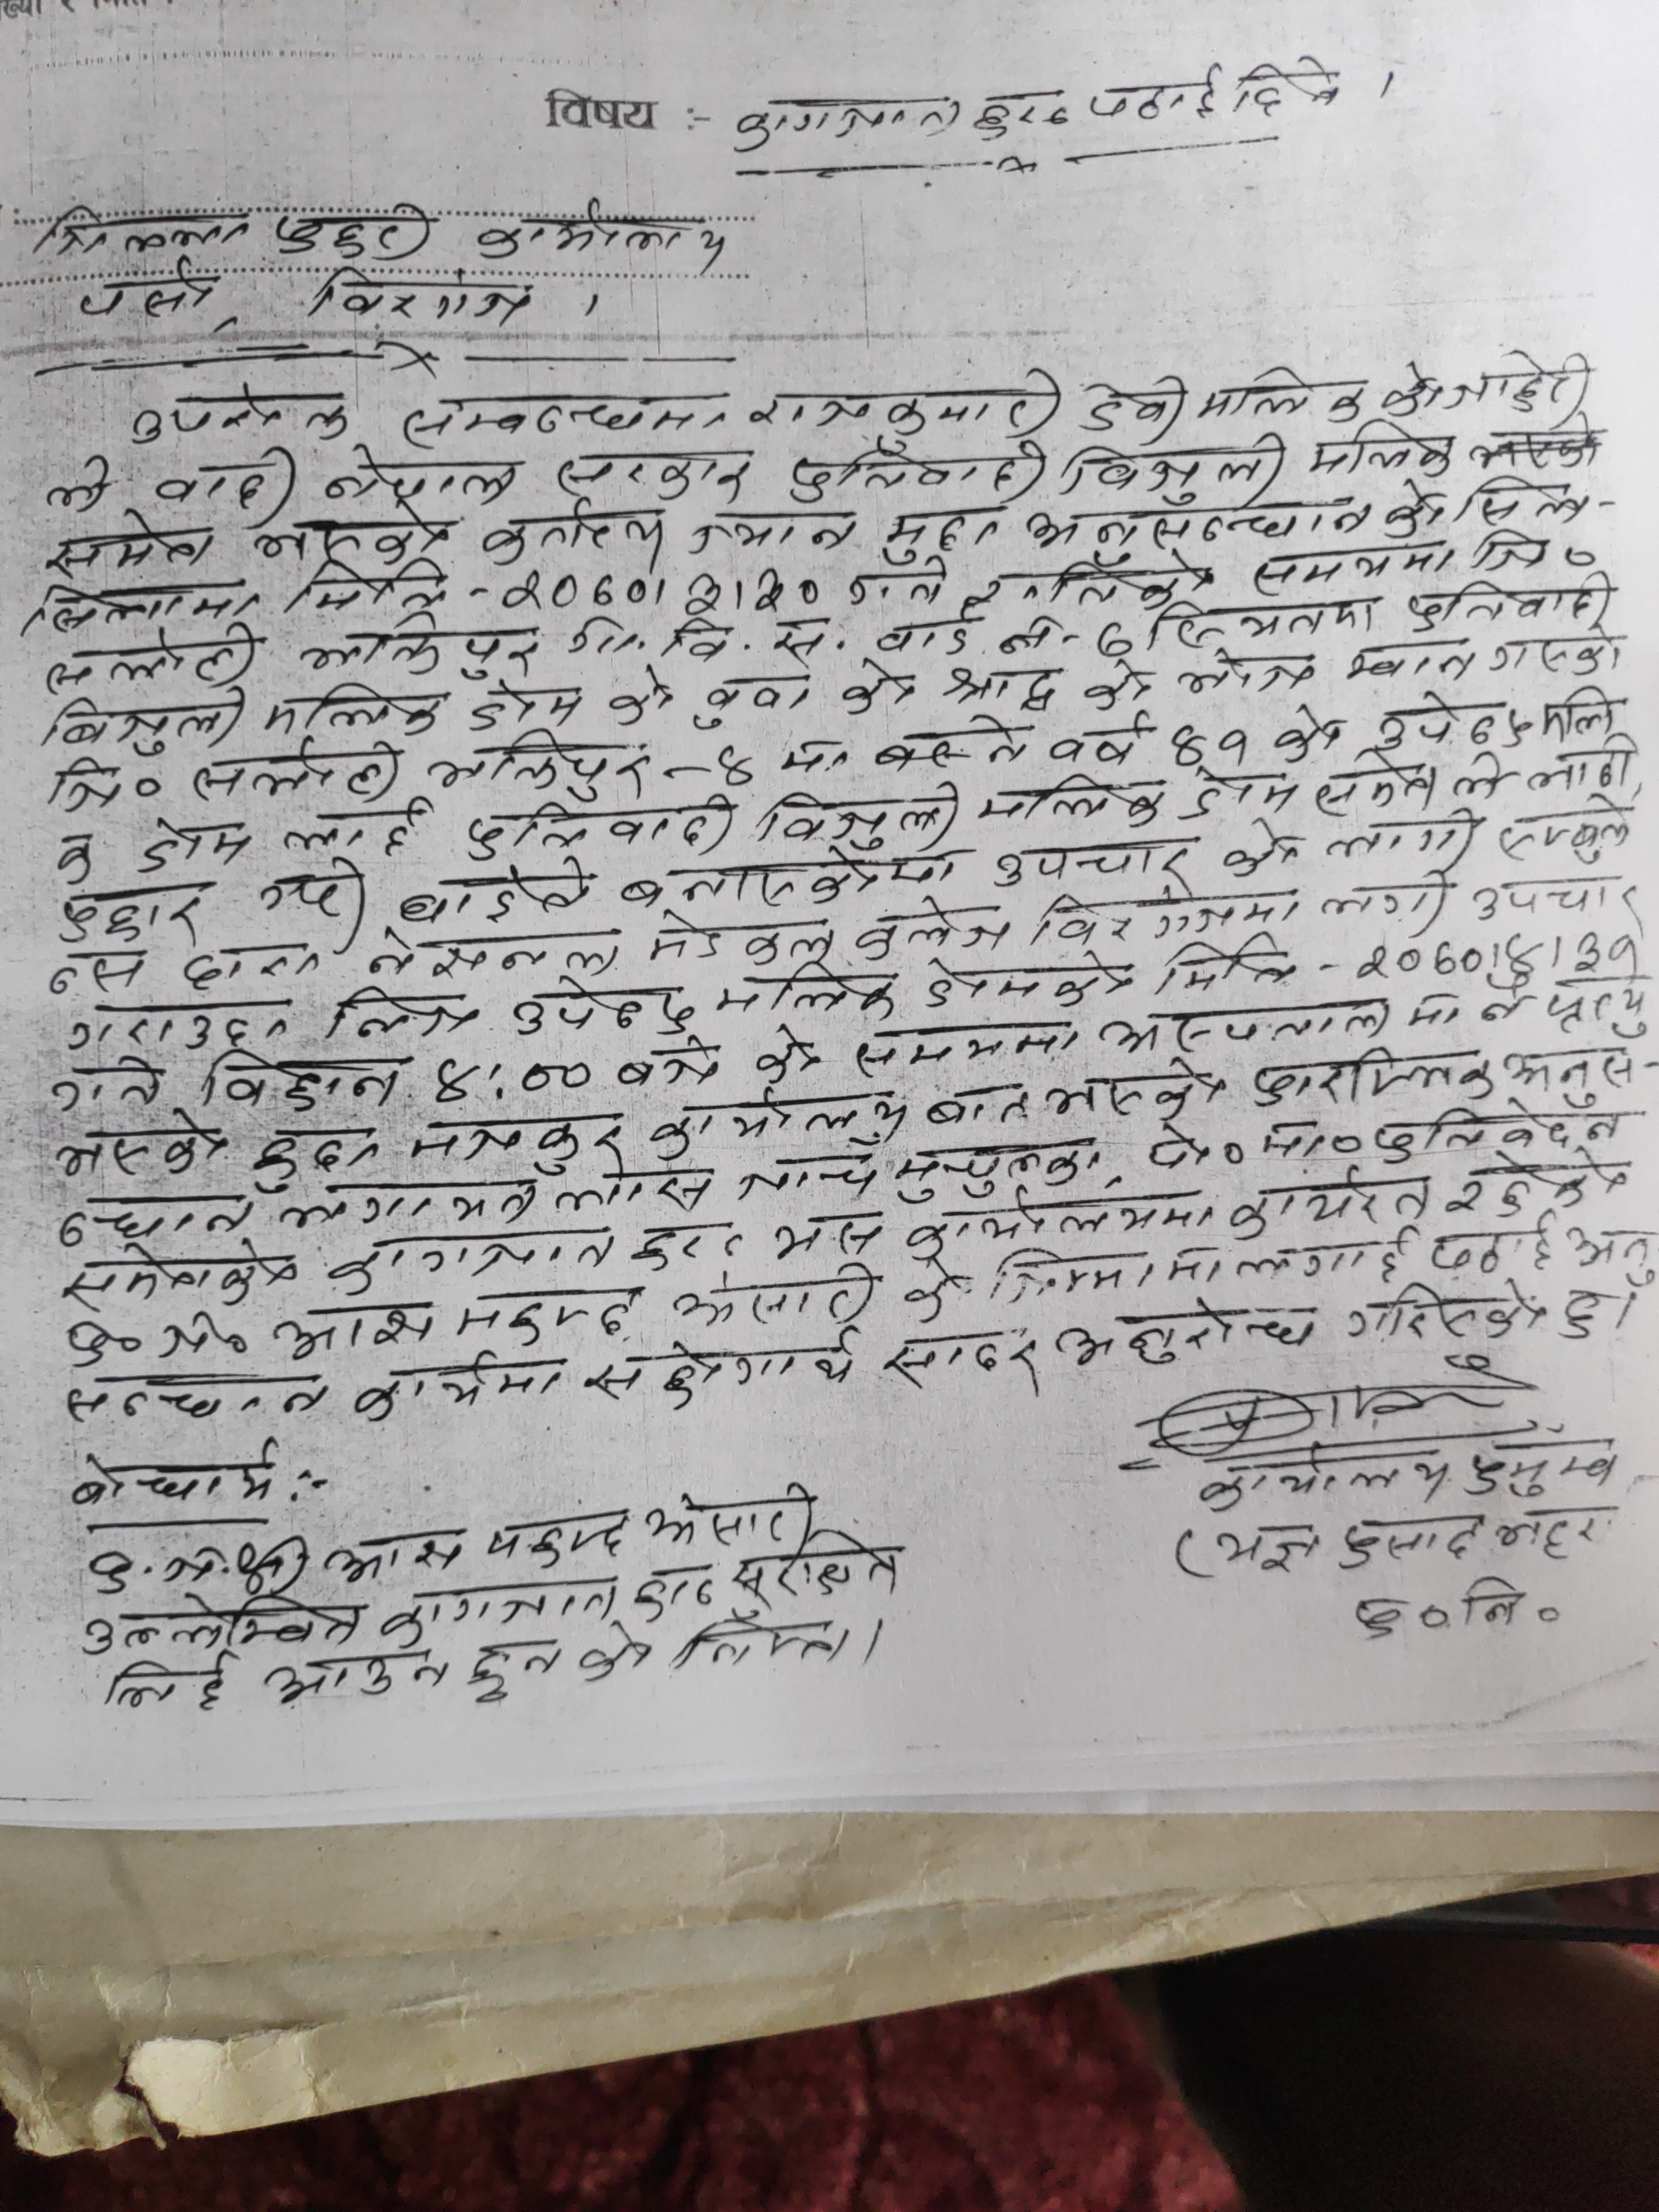text: (748, 368, 1065, 453), (901, 1186, 1211, 1256), (579, 1334, 861, 1409), (1021, 495, 1375, 554), (1051, 1298, 1330, 1372), (617, 846, 969, 906), (324, 1228, 620, 1291), (427, 725, 648, 808), (394, 390, 734, 444), (465, 794, 735, 862), (64, 1435, 286, 1517), (1197, 1446, 1457, 1515), (648, 1089, 903, 1158), (352, 1348, 572, 1428), (476, 202, 734, 270), (376, 1575, 626, 1642), (500, 561, 821, 613), (296, 615, 537, 685), (1094, 998, 1391, 1054), (307, 261, 542, 331), (71, 1594, 364, 1649), (958, 552, 1223, 613), (1253, 1043, 1502, 1108), (80, 1531, 310, 1601), (1026, 881, 1304, 939), (1223, 1163, 1436, 1238), (1373, 1097, 1626, 1160), (58, 1369, 329, 1426), (35, 686, 251, 758), (56, 1247, 300, 1310), (186, 738, 404, 808), (1351, 928, 1647, 979), (565, 617, 849, 669), (272, 1174, 545, 1228), (730, 92, 965, 155), (1060, 441, 1288, 505), (1345, 1275, 1546, 1348), (44, 624, 263, 690), (368, 925, 624, 981), (404, 1113, 626, 1177), (394, 855, 596, 925), (755, 786, 967, 852), (849, 1019, 1084, 1078), (125, 381, 352, 442), (1152, 592, 1384, 651), (667, 1259, 878, 1322), (643, 1479, 819, 1554), (200, 1050, 403, 1115), (894, 1137, 1101, 1200), (1042, 1054, 1229, 1123), (711, 960, 901, 1028), (1405, 573, 1622, 632), (554, 439, 760, 502), (920, 954, 1131, 1015), (450, 1280, 638, 1348), (1241, 536, 1450, 597), (730, 1533, 908, 1604), (784, 453, 1049, 500), (674, 1611, 863, 1677), (1443, 1151, 1629, 1217), (14, 583, 267, 632), (42, 512, 214, 583), (63, 1000, 301, 1050), (54, 1109, 227, 1179), (511, 975, 697, 1040), (52, 1190, 260, 1247), (51, 874, 221, 944), (882, 1325, 1044, 1399), (976, 770, 1162, 833), (260, 1648, 451, 1709), (988, 834, 1202, 888), (1462, 1433, 1629, 1501), (647, 909, 843, 967), (33, 207, 256, 258), (1197, 366, 1371, 430), (1443, 345, 1596, 418), (247, 505, 453, 559), (98, 1648, 242, 1723), (258, 683, 448, 738), (153, 444, 298, 517), (272, 1299, 439, 1362), (1497, 792, 1633, 869), (1234, 1228, 1415, 1285), (319, 451, 518, 503), (687, 502, 864, 559), (854, 897, 1016, 960), (476, 503, 669, 556), (737, 1132, 885, 1200), (272, 199, 432, 261), (986, 1242, 1155, 1301), (418, 1050, 598, 1106), (289, 554, 453, 615), (1307, 749, 1448, 819), (1335, 1508, 1486, 1573), (1473, 867, 1642, 925), (1324, 805, 1483, 866), (484, 1501, 629, 1568), (1504, 1038, 1635, 1109), (1154, 930, 1293, 996), (1483, 617, 1626, 681), (1373, 686, 1502, 756), (256, 852, 369, 930), (1460, 465, 1601, 528), (875, 712, 1028, 770), (277, 799, 425, 859), (321, 1527, 469, 1587), (1302, 421, 1459, 477), (247, 1125, 378, 1191), (878, 495, 1006, 561), (1425, 1216, 1560, 1278), (324, 988, 483, 1040), (1087, 63, 1227, 122), (683, 672, 823, 732), (75, 263, 221, 319), (49, 1050, 166, 1120), (992, 606, 1140, 660), (1316, 869, 1453, 927), (1176, 759, 1309, 819), (138, 808, 261, 871), (934, 655, 1065, 714), (1541, 974, 1654, 1042), (1176, 646, 1323, 698), (181, 941, 321, 995), (38, 752, 160, 813), (1230, 57, 1345, 122), (552, 1169, 721, 1212), (467, 1634, 563, 1709), (1345, 641, 1478, 695), (1493, 1507, 1612, 1566), (1523, 737, 1640, 796), (1567, 1217, 1659, 1291), (1075, 374, 1190, 432), (1216, 1517, 1321, 1580), (769, 1211, 885, 1264), (1527, 678, 1619, 745), (627, 1217, 739, 1273), (969, 84, 1077, 139), (467, 681, 584, 732), (1042, 711, 1150, 765), (918, 1078, 1035, 1127), (612, 1042, 727, 1090), (835, 660, 920, 725), (605, 660, 683, 730), (843, 556, 951, 606), (1216, 815, 1300, 880), (875, 611, 978, 662), (1169, 714, 1253, 775), (47, 949, 152, 998), (629, 1564, 716, 1622), (1380, 469, 1450, 540), (896, 1254, 964, 1327), (1274, 700, 1351, 765), (756, 1019, 828, 1085), (1380, 347, 1443, 421), (577, 1630, 657, 1688), (44, 455, 113, 519), (1082, 655, 1159, 712), (781, 726, 857, 782), (1462, 1576, 1530, 1634), (1469, 526, 1551, 573), (1138, 1123, 1218, 1170), (47, 826, 108, 885), (1347, 1592, 1413, 1644), (1263, 1113, 1331, 1163), (1558, 1284, 1612, 1346), (1471, 974, 1532, 1028), (1450, 749, 1507, 805), (1162, 1238, 1225, 1289), (711, 738, 765, 787), (1405, 991, 1464, 1031), (1497, 707, 1539, 751)
